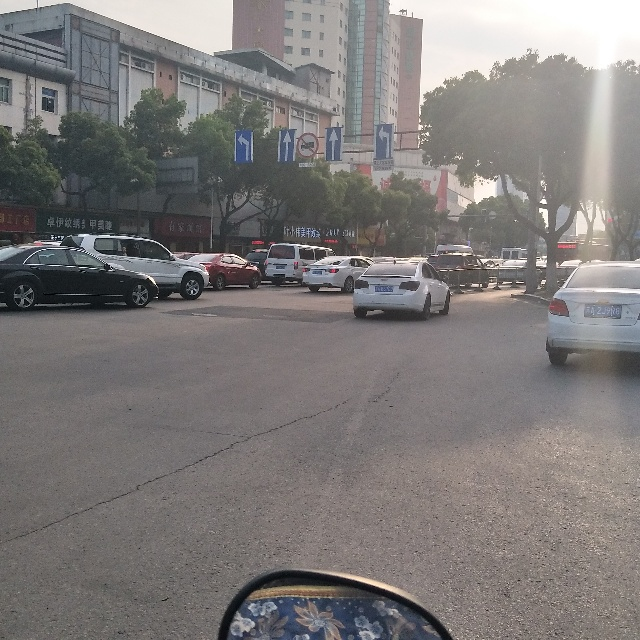left: (233, 129, 253, 162), (377, 126, 392, 162)
straight: (326, 126, 345, 162), (276, 128, 293, 158)
